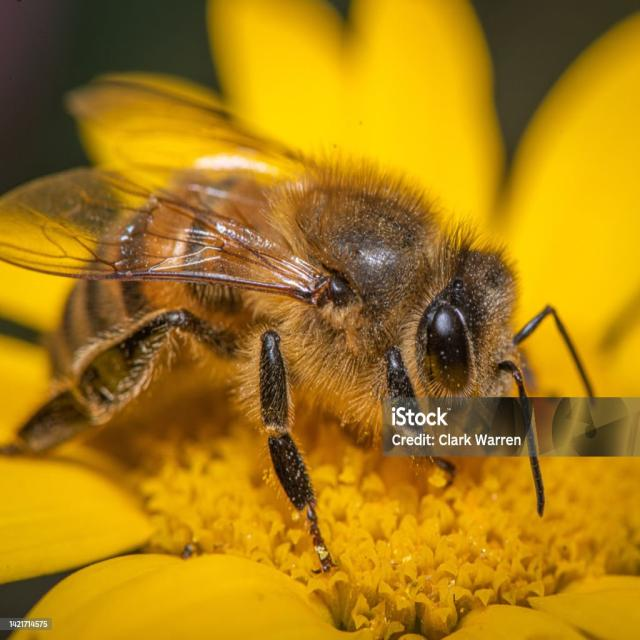bees: (0, 77, 597, 586)
